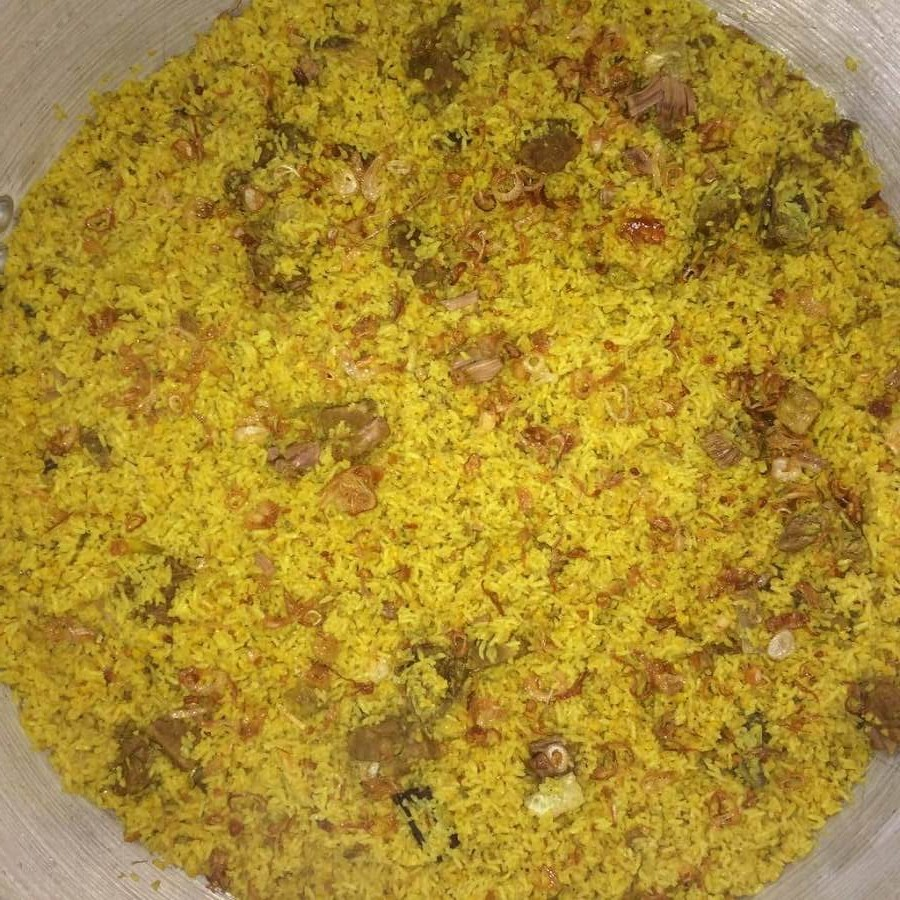khichuri: (17, 7, 892, 888)
